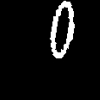chain: (50, 1, 74, 57)
